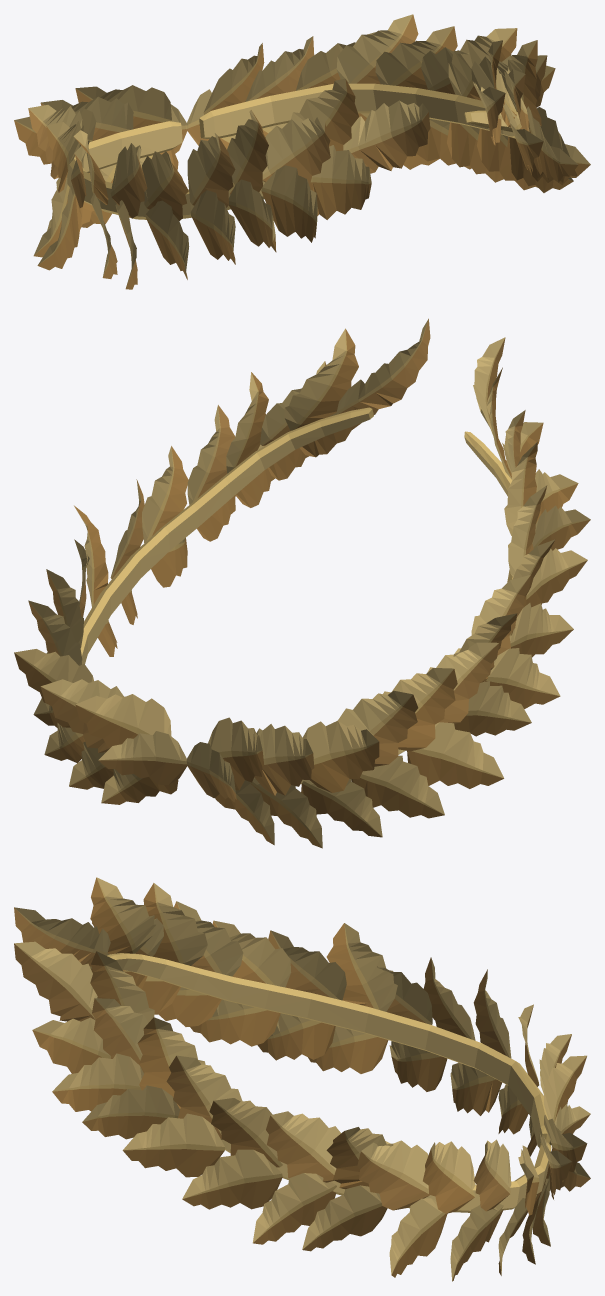
Rendered from greekOakWreath.glb.
The picture shows the model from 3 angles, top to bottom: view 1: azimuth 30°, elevation 25°; view 2: azimuth 150°, elevation 25°; view 3: azimuth 270°, elevation 25°; orthographic projection. The views are drawn at different scales.
Visible parts, largest first — view 1: greekOakWreath; view 2: greekOakWreath; view 3: greekOakWreath.
Part boxes in pixels (<box>): greekOakWreath: <box>14,14,590,289</box>; greekOakWreath: <box>14,318,590,848</box>; greekOakWreath: <box>14,877,590,1281</box>.
Size of the model in its own units: 0.3189 by 0.1998 by 0.355.
